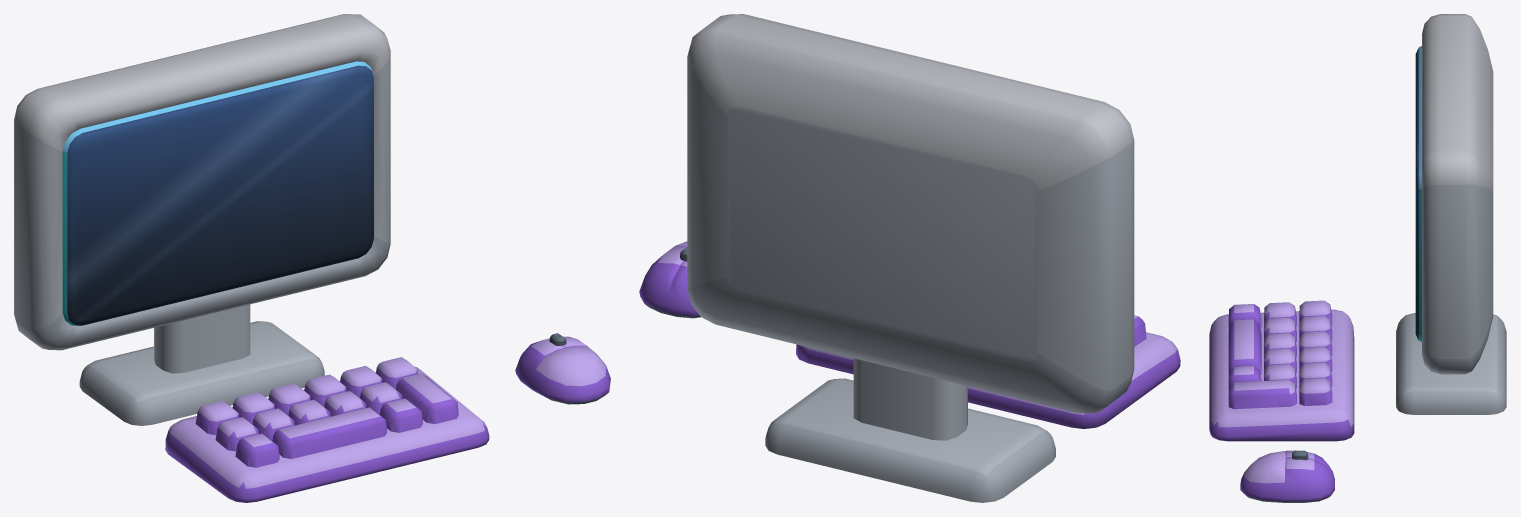
File: computador_pacote.glb
The picture shows the model from 3 angles, left to right: view 1: azimuth 30°, elevation 25°; view 2: azimuth 150°, elevation 25°; view 3: azimuth 270°, elevation 25°; orthographic projection. The views are drawn at different scales.
Visible parts, largest first — view 1: computador_pacote; view 2: computador_pacote; view 3: computador_pacote.
Part boxes in pixels (left/top/right/bottom): computador_pacote: left=14, top=14, right=610, bottom=502; computador_pacote: left=639, top=14, right=1180, bottom=502; computador_pacote: left=1209, top=14, right=1506, bottom=502.
Size of the model in its own units: 0.8129 by 0.5207 by 0.484.
2 materials, 2 textured.
